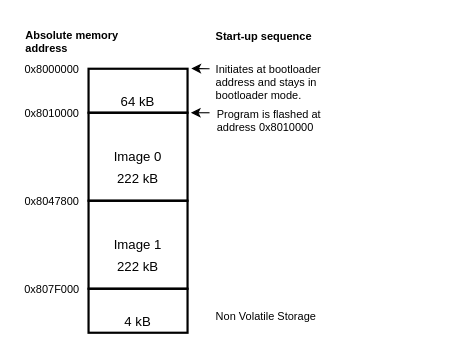
This 463x352 diagram has some shape labels left out. The box of each missing label's shape, as (x1, y1, x2, y2) in pixels:
Bootloader: (87, 67, 188, 113)
NVS: (87, 287, 188, 333)
